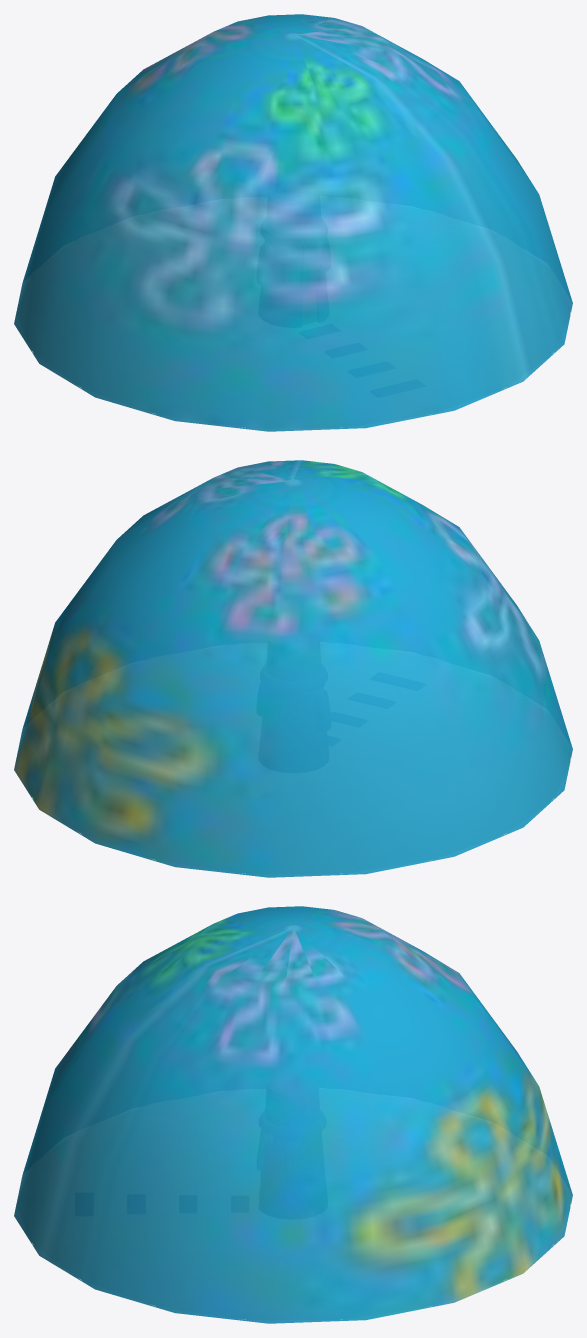
The model's file is squidward-house-opt1.glb.
3 views of the same model, one above another, from view 1: azimuth 30°, elevation 25°; view 2: azimuth 150°, elevation 25°; view 3: azimuth 270°, elevation 25° (orthographic).
Visible parts, largest first — view 1: Skybox; view 2: Skybox; view 3: Skybox.
Part boxes in pixels (<box>): Skybox: <box>14,14,572,431</box>; Skybox: <box>14,460,572,877</box>; Skybox: <box>14,906,572,1323</box>.
Size of the model in its own units: 3.46 by 1.9 by 3.46.
9 materials, 5 textured.
